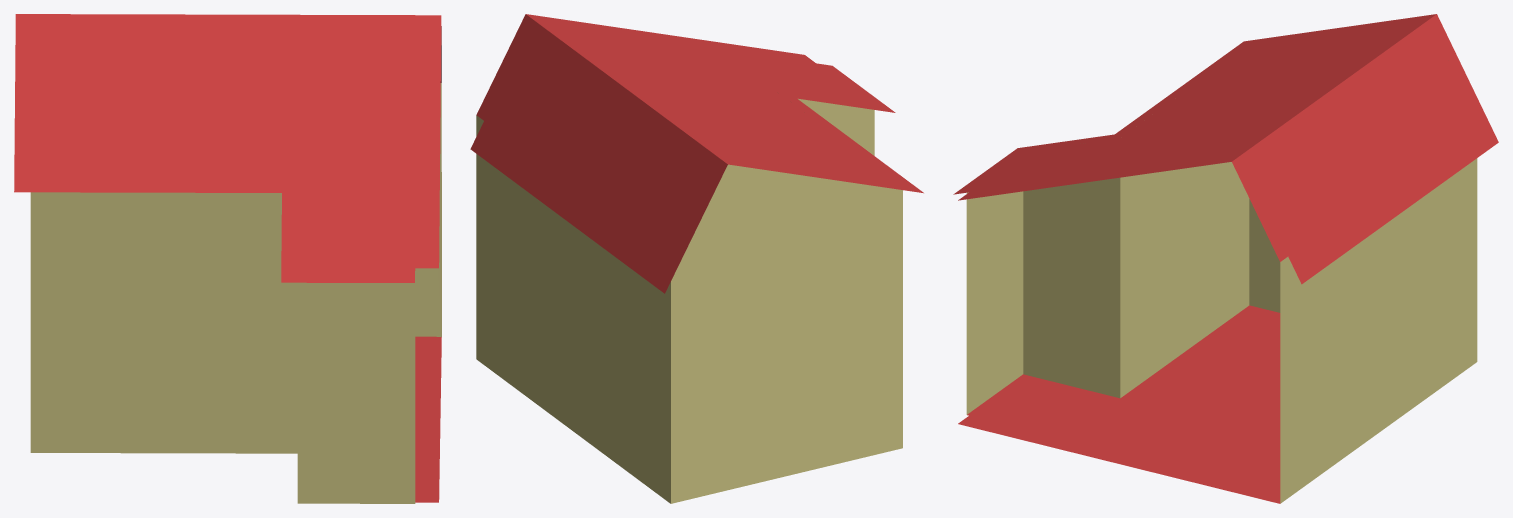
The picture shows the model from 3 angles, left to right: view 1: azimuth 30°, elevation 25°; view 2: azimuth 150°, elevation 25°; view 3: azimuth 270°, elevation 25°; orthographic projection. The views are drawn at different scales.
Bounding box in the file's own units: 15.63 × 17.36 × 11.59.
